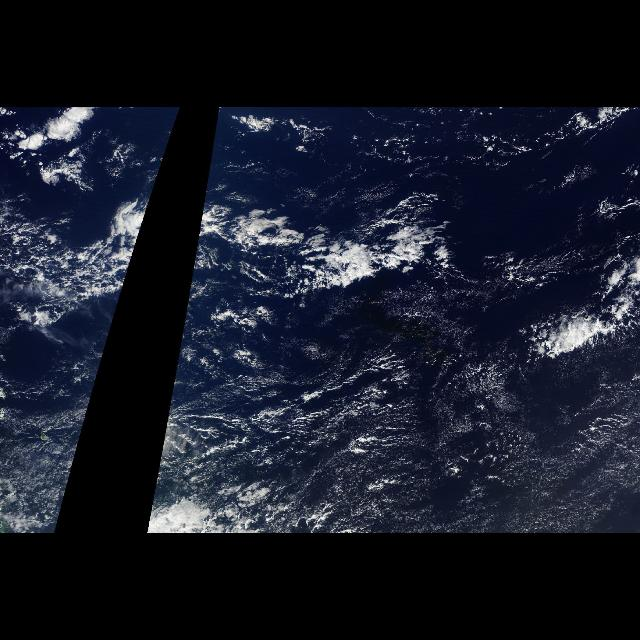Fish: (178, 186, 496, 350), (1, 186, 154, 350)
Sugar: (242, 358, 638, 532)
